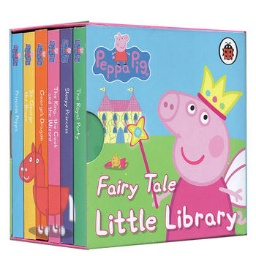Peppa: (126, 64, 244, 237)
